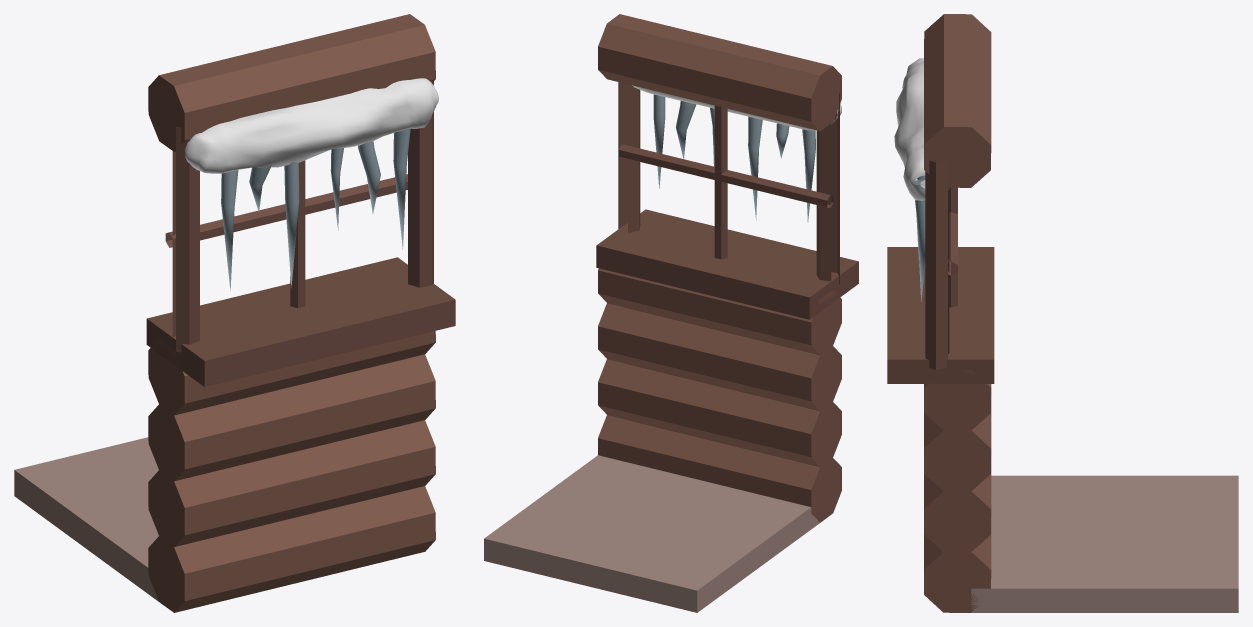
File: Window(1).fbx
3 views of the same model, side by side, from view 1: azimuth 30°, elevation 25°; view 2: azimuth 150°, elevation 25°; view 3: azimuth 270°, elevation 25° (orthographic). The views are drawn at different scales.
Parts seen in each view (by area): view 1: Window; view 2: Window; view 3: Window.
Part boxes in pixels (left/top/right/bottom): Window: left=14, top=14, right=455, bottom=612; Window: left=484, top=14, right=858, bottom=612; Window: left=887, top=14, right=1238, bottom=612.
Bounding box in the file's own units: 1.03 × 2.01 × 1.31.
1 material, 1 textured.
